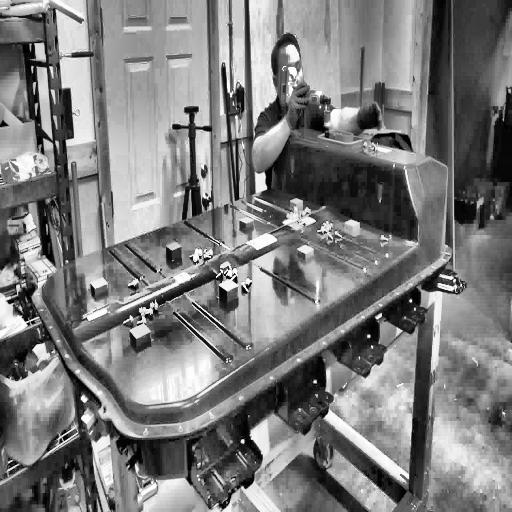b_casing: (32, 113, 452, 438)
nut: (118, 297, 164, 330), (212, 262, 256, 295), (282, 187, 312, 228), (316, 210, 346, 248), (186, 242, 219, 265), (122, 268, 144, 292), (379, 229, 394, 243)
